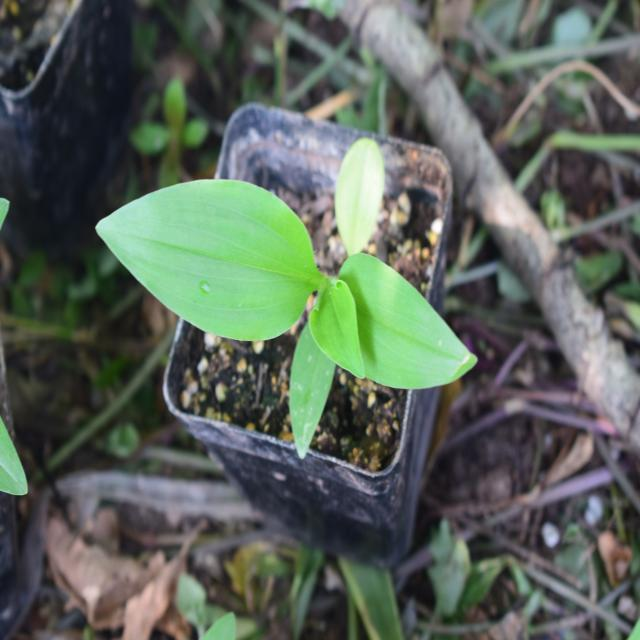Common Dayflower: (96, 164, 485, 423)
